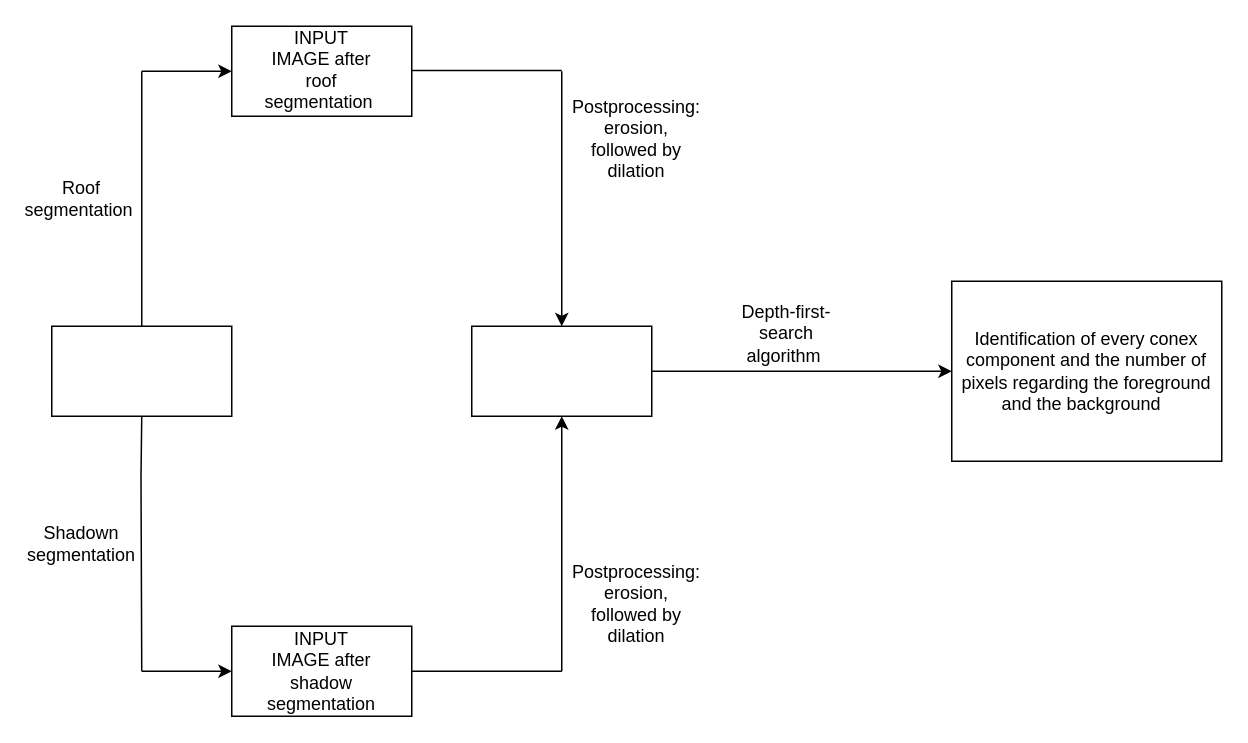
Some shapes in this 1248 by 743 pixel diagram are drawn without their labels. Here are the shapes that lost their labels. From the top down, the box of each, then its label:
(50, 325, 232, 416): INPUT IMAGE
(470, 325, 652, 416): INPUT IMAGE after fusion
